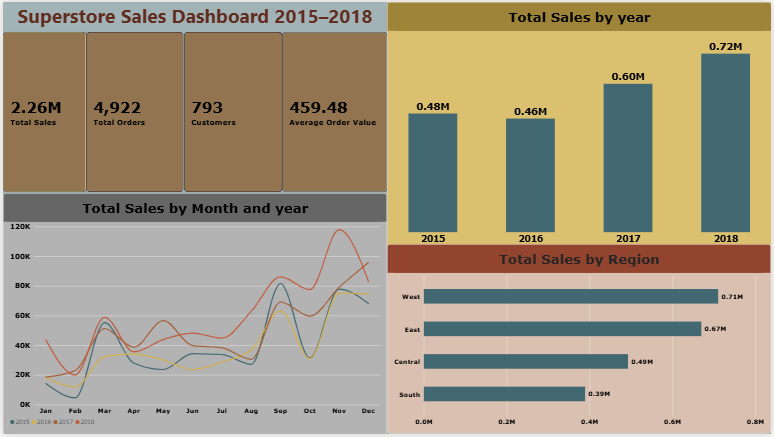

This screenshot's page, from the dashboard's own definition file:
{"tool":"powerbi","page":{"name":"Page 1","canvas":[1920,1080],"ordinal":0},"visuals":[{"type":"cardVisual","fields":{"Data":["project_2.Total Sales"]},"box":[0,76.1,208.7,400.2],"z":0},{"type":"cardVisual","fields":{"Data":["project_2.Total Orders Display"]},"box":[208.7,76.1,243.1,400.2],"z":1},{"type":"cardVisual","fields":{"Data":["project_2.Customers"]},"box":[451.8,76.1,245.5,400.2],"z":2},{"type":"cardVisual","fields":{"Data":["Calendar.Average Order Value"]},"box":[697.3,76.1,262.7,400.2],"z":3},{"type":"columnChart","fields":{"Category":["Calendar.year"],"Y":["project_2.Total Sales"]},"box":[959,0,961.2,626.4],"z":4},{"type":"lineChart","fields":{"Category":["Calendar.Month"],"Series":["Calendar.year"],"Y":["project_2.Total Sales"]},"box":[0,476.3,960,604],"z":5},{"type":"barChart","fields":{"Category":["project_2.Region"],"Y":["project_2.Total Sales"]},"box":[960,606,960,474],"z":6},{"type":"textbox","box":[0,0,960,76.1],"z":7}]}

Visuals, with their boxes in screenshot pixels (x1, y1, x2, y2), scaled from the page's 1920x1080 canvas onto the 774x437 screenshot:
cardVisual - project_2.Total Sales: <bbox>0, 31, 84, 193</bbox>
cardVisual - project_2.Total Orders Display: <bbox>84, 31, 182, 193</bbox>
cardVisual - project_2.Customers: <bbox>182, 31, 281, 193</bbox>
cardVisual - Calendar.Average Order Value: <bbox>281, 31, 387, 193</bbox>
columnChart - Calendar.year x project_2.Total Sales: <bbox>387, 0, 773, 253</bbox>
lineChart - Calendar.Month x Calendar.year: <bbox>0, 193, 387, 436</bbox>
barChart - project_2.Region x project_2.Total Sales: <bbox>387, 245, 773, 436</bbox>
textbox: <bbox>0, 0, 387, 31</bbox>
